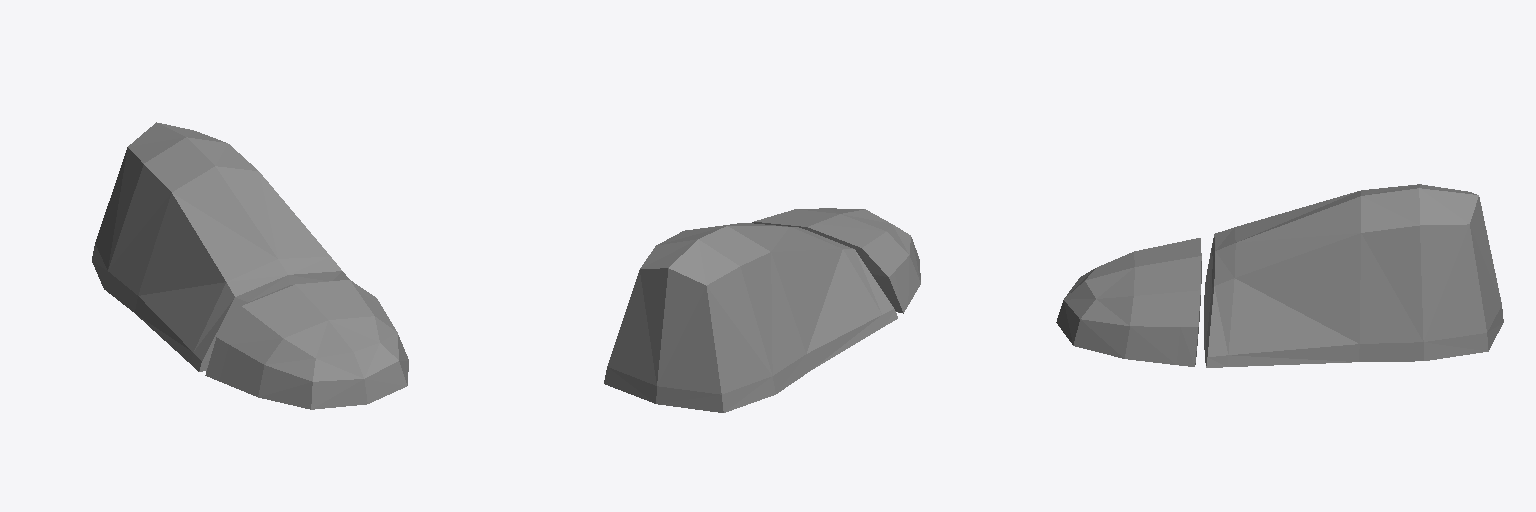
File: LeftFootStep.obj
3 renders of one model, left to right at view 1: azimuth 30°, elevation 25°; view 2: azimuth 150°, elevation 25°; view 3: azimuth 270°, elevation 25°, orthographic.
Visible parts, largest first — view 1: Model_Geometry_Mesh; view 2: Model_Geometry_Mesh; view 3: Model_Geometry_Mesh.
Boxes of the visible parts, box(x1,y1,x2,y2) form: Model_Geometry_Mesh: box(92, 122, 408, 409); Model_Geometry_Mesh: box(604, 208, 920, 412); Model_Geometry_Mesh: box(1056, 184, 1503, 367).
Bounding box in the file's own units: 1.55 × 1.07 × 3.2.